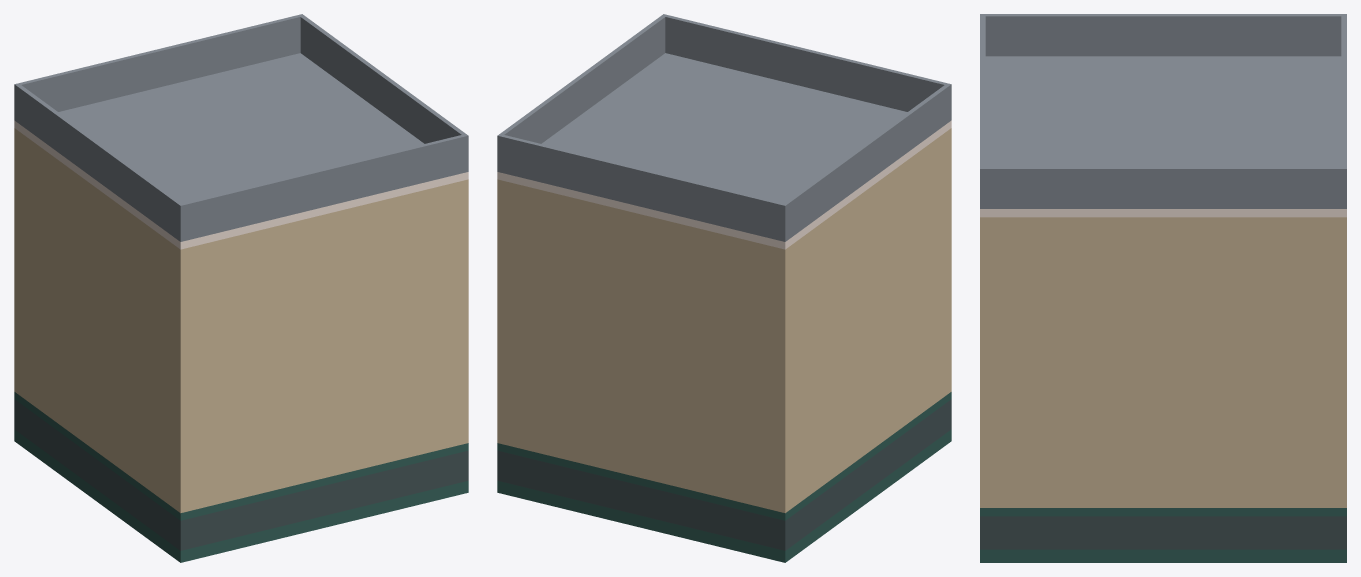
The model's file is far.fbx.
3 renders of one model, left to right at view 1: azimuth 30°, elevation 25°; view 2: azimuth 150°, elevation 25°; view 3: azimuth 270°, elevation 25°, orthographic. The views are drawn at different scales.
Parts seen in each view (by area): view 1: a2006/500/far; view 2: a2006/500/far; view 3: a2006/500/far.
Part boxes in pixels (x1,y1,x2,y2): a2006/500/far: [14, 14, 468, 562]; a2006/500/far: [497, 14, 951, 562]; a2006/500/far: [980, 14, 1346, 562].
Size of the model in its own units: 20 by 23.7 by 20.
